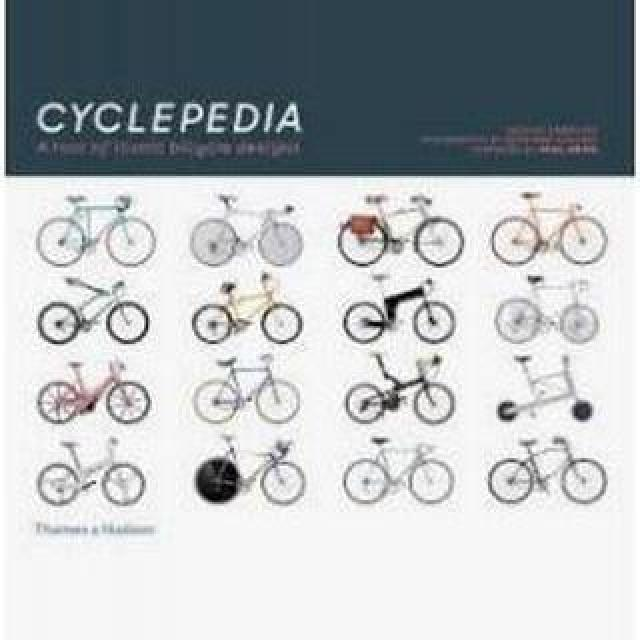Person: (188, 430, 314, 510), (338, 352, 464, 428), (486, 356, 612, 432), (338, 194, 464, 268), (492, 274, 612, 350), (488, 432, 608, 506), (38, 194, 154, 270), (190, 194, 302, 270), (36, 430, 148, 506), (342, 276, 460, 348), (36, 276, 154, 348), (492, 196, 608, 268), (340, 434, 456, 506), (190, 272, 302, 346), (192, 354, 300, 426), (34, 358, 150, 424)
